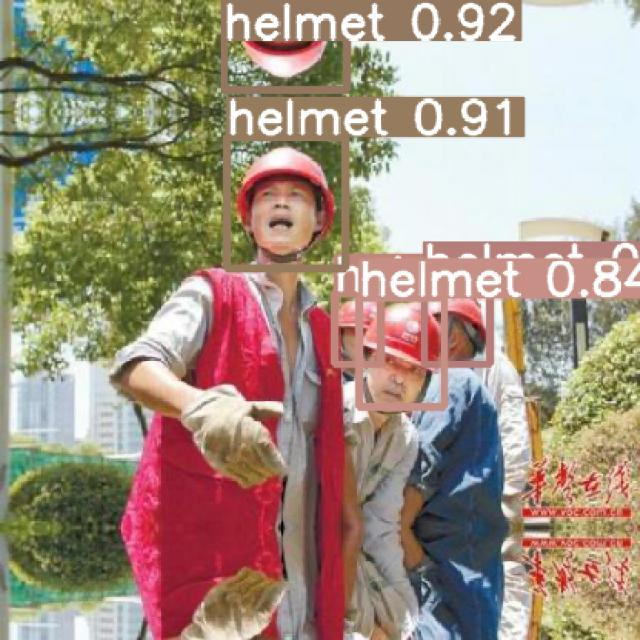Helmet: (235, 145, 335, 259), (361, 301, 441, 372), (429, 296, 487, 355)
